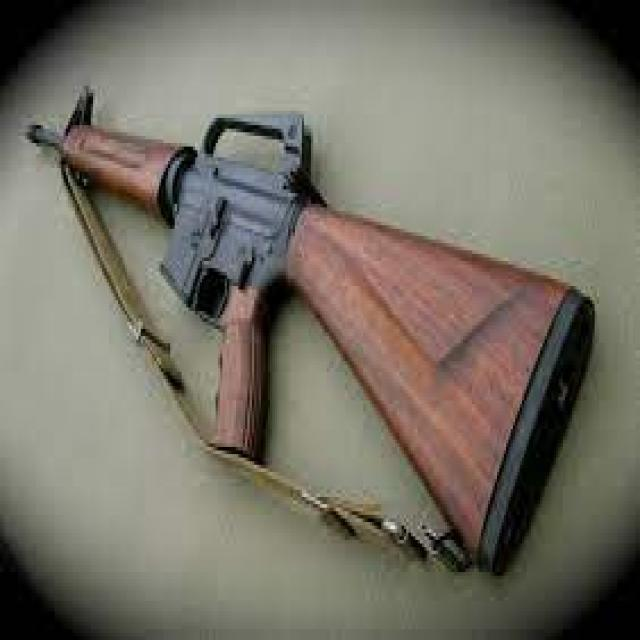weapon: (25, 84, 598, 582)
